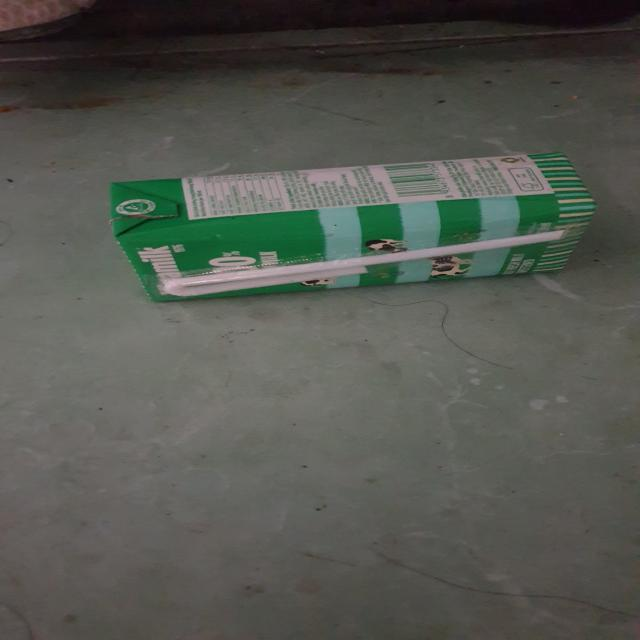Vina: (105, 149, 602, 303)
